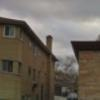chimneys: (45, 34, 52, 54)
